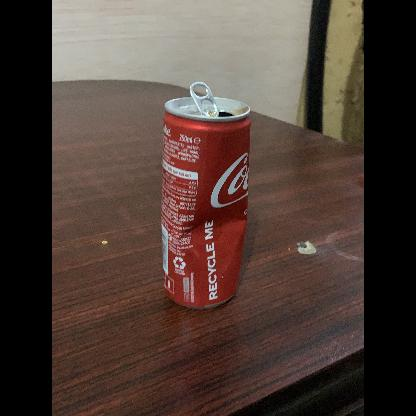Dent_Can: (184, 215, 247, 276)
Lid_Open: (182, 76, 236, 124)
Tin_Can: (152, 78, 256, 326)
